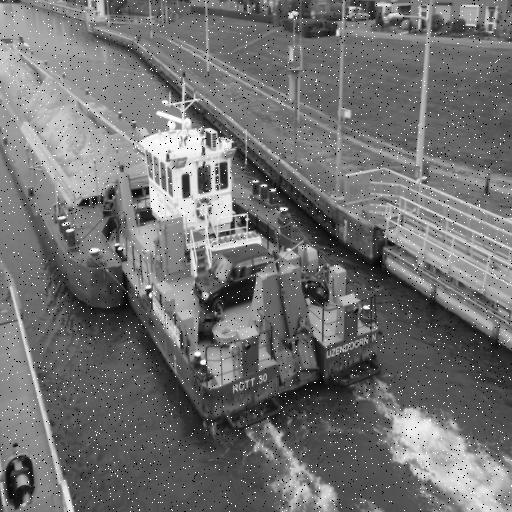tugboat: (104, 107, 388, 439)
